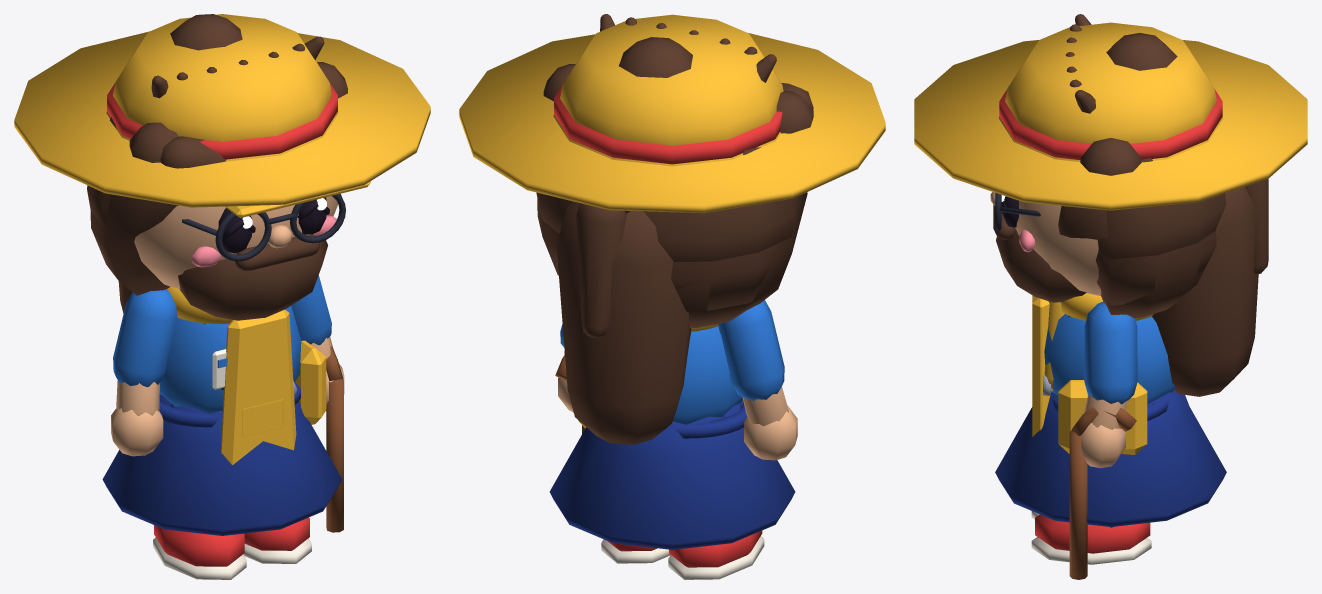
Rendered from kid.glb.
3 views of the same model, side by side, from view 1: azimuth 30°, elevation 25°; view 2: azimuth 150°, elevation 25°; view 3: azimuth 270°, elevation 25° (orthographic). The views are drawn at different scales.
Visible parts, largest first — view 1: Acc_sunhat_Accent, Acc_skirt_Bottom, Acc_apron_Accent, Acc_beard_Hair, Head_Skin, Body_Top, ArmL_Top, Hair_long_Hair, ArmL_Skin, Acc_sunhat_Satin, Acc_cane_Gloss, LegL_Shoes (+17 smaller); view 2: Acc_sunhat_Accent, Hair_long_Hair, Acc_skirt_Bottom, Hair_curls_Hair, Hair_pony_Hair, ArmL_Top, Acc_sunhat_Satin, Body_Top, Hair_bob_Hair, ArmL_Skin, Hair_bun_Hair, LegL_Shoes (+5 smaller); view 3: Acc_sunhat_Accent, Acc_skirt_Bottom, Hair_long_Hair, Hair_curls_Hair, ArmR_Top, Body_Top, Hair_bob_Hair, Head_Skin, Acc_sunhat_Satin, Acc_cane_Gloss, Acc_beard_Hair, Acc_bag_Accent (+8 smaller).
Part boxes in pixels (x1,y1,x2,y2): Acc_sunhat_Accent: [14, 14, 430, 207]; Acc_skirt_Bottom: [102, 394, 342, 535]; Acc_apron_Accent: [220, 309, 296, 464]; Acc_beard_Hair: [178, 234, 327, 320]; Head_Skin: [134, 196, 338, 288]; Body_Top: [159, 306, 301, 413]; ArmL_Top: [113, 289, 177, 387]; Hair_long_Hair: [96, 195, 178, 313]; ArmL_Skin: [111, 380, 163, 456]; Acc_sunhat_Satin: [107, 74, 337, 159]; Acc_cane_Gloss: [326, 346, 343, 532]; LegL_Shoes: [154, 525, 244, 566]; Acc_sunhat_Accent: [459, 14, 885, 213]; Hair_long_Hair: [537, 192, 807, 444]; Acc_skirt_Bottom: [549, 400, 795, 549]; Hair_curls_Hair: [536, 64, 813, 261]; Hair_pony_Hair: [576, 203, 630, 338]; ArmL_Top: [718, 300, 784, 400]; Acc_sunhat_Satin: [554, 85, 782, 164]; Body_Top: [673, 326, 742, 424]; Hair_bob_Hair: [539, 206, 796, 311]; ArmL_Skin: [742, 387, 797, 460]; Hair_bun_Hair: [619, 37, 692, 77]; LegL_Shoes: [669, 530, 762, 567]; Acc_sunhat_Accent: [914, 22, 1307, 210]; Acc_skirt_Bottom: [995, 390, 1226, 526]; Hair_long_Hair: [1080, 186, 1258, 396]; Hair_curls_Hair: [1080, 138, 1226, 259]; ArmR_Top: [1084, 302, 1137, 404]; Body_Top: [1044, 314, 1174, 403]; Hair_bob_Hair: [1058, 206, 1216, 305]; Head_Skin: [990, 192, 1101, 295]; Acc_sunhat_Satin: [999, 82, 1222, 159]; Acc_cane_Gloss: [1069, 407, 1136, 579]; Acc_beard_Hair: [993, 204, 1086, 302]; Acc_bag_Accent: [1058, 380, 1147, 454].
Bounding box in the file's own units: 0.9975 × 1.38 × 0.9725.
